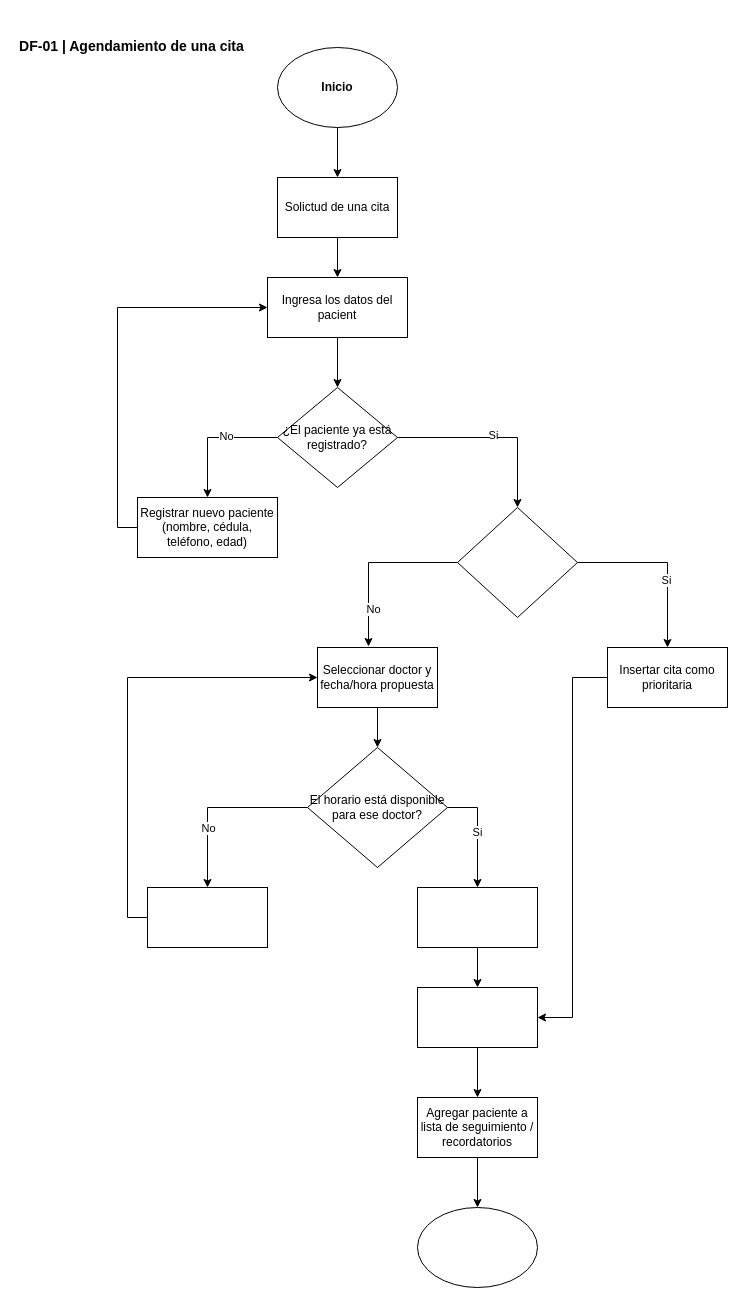
This 745x1305 diagram has some shape labels left out. Here are the shapes that lost their labels. From the top down, the centre of each, then its label:
point (517, 562): ¿Es una cita de urgencia?
point (207, 917): Seleccionar nueva fecha/hora
point (477, 917): Bloquear horario y registrar la cita
point (477, 1017): Asignar estado: "Agendada"
point (477, 1247): FIN
